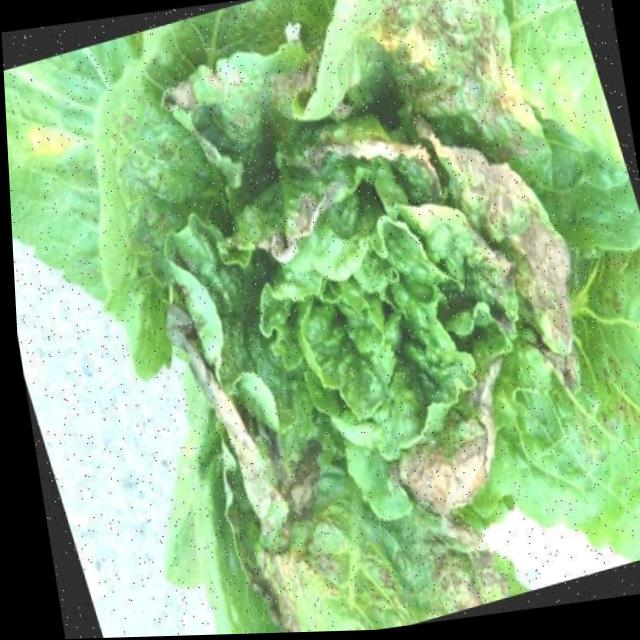Bad: (94, 0, 640, 634), (435, 144, 573, 356), (398, 383, 494, 516)
